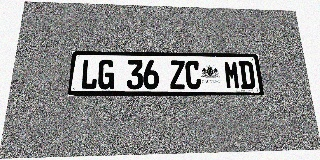3: (127, 60, 143, 89)
6: (143, 60, 159, 89)
C: (185, 60, 201, 89)
D: (238, 61, 256, 89)
G: (97, 60, 115, 89)
L: (80, 59, 98, 89)
M: (223, 61, 241, 89)
Z: (170, 60, 186, 89)
